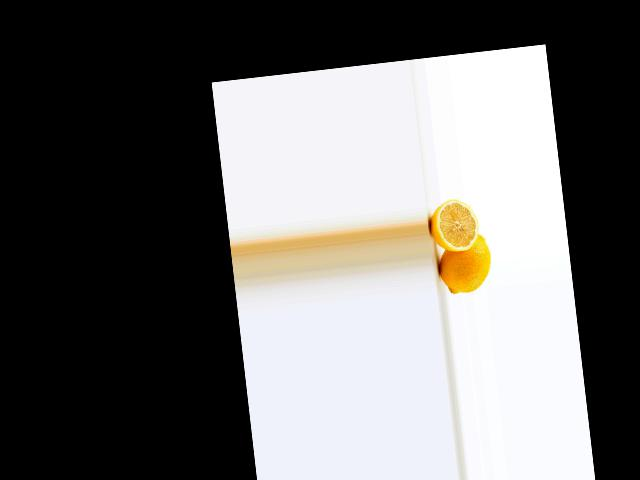lemon: (429, 227, 492, 298)
